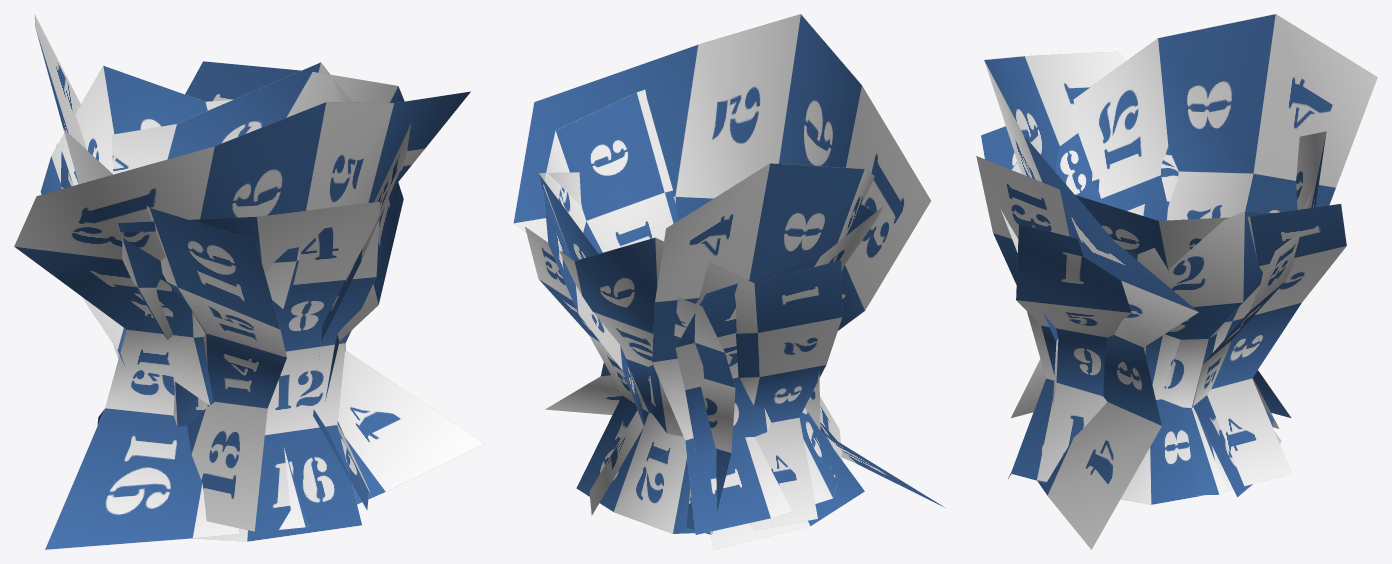
Rendered from Rui_UpWeb6.fbx.
The picture shows the model from 3 angles, left to right: view 1: azimuth 30°, elevation 25°; view 2: azimuth 150°, elevation 25°; view 3: azimuth 270°, elevation 25°; orthographic projection. The views are drawn at different scales.
Visible parts, largest first — view 1: SM_e_Plc_P1007_Upweb006; view 2: SM_e_Plc_P1007_Upweb006; view 3: SM_e_Plc_P1007_Upweb006.
Boxes of the visible parts, bbox=[...] form: SM_e_Plc_P1007_Upweb006: bbox=[14, 14, 484, 549]; SM_e_Plc_P1007_Upweb006: bbox=[513, 14, 944, 549]; SM_e_Plc_P1007_Upweb006: bbox=[976, 14, 1377, 549].
Bounding box in the file's own units: 431 × 418 × 381.
